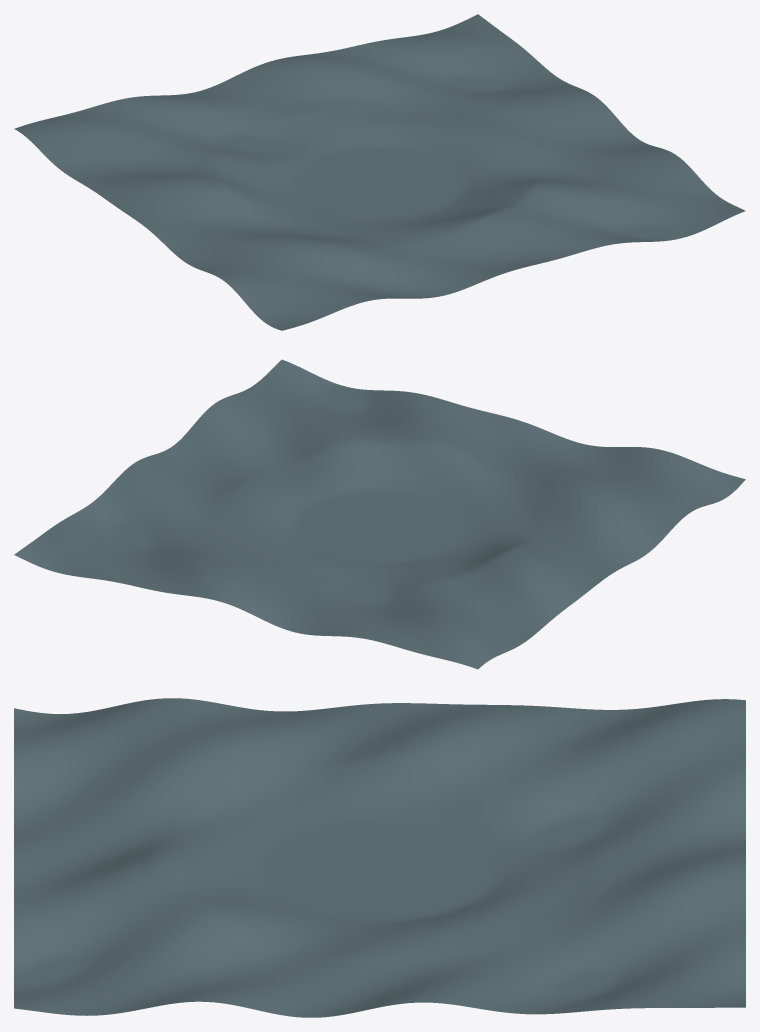
The model's file is SM_Jinyang_Horizon.fbx.
3 renders of one model, top to bottom at view 1: azimuth 30°, elevation 25°; view 2: azimuth 150°, elevation 25°; view 3: azimuth 270°, elevation 25°, orthographic. The views are drawn at different scales.
Parts seen in each view (by area): view 1: SM_Jinyang_Horizon; view 2: SM_Jinyang_Horizon; view 3: SM_Jinyang_Horizon.
Part boxes in pixels (bbox=[...]): SM_Jinyang_Horizon: bbox=[14, 14, 745, 330]; SM_Jinyang_Horizon: bbox=[14, 359, 745, 669]; SM_Jinyang_Horizon: bbox=[14, 698, 745, 1017].
Size of the model in its own units: 56000 by 2398 by 56000.
